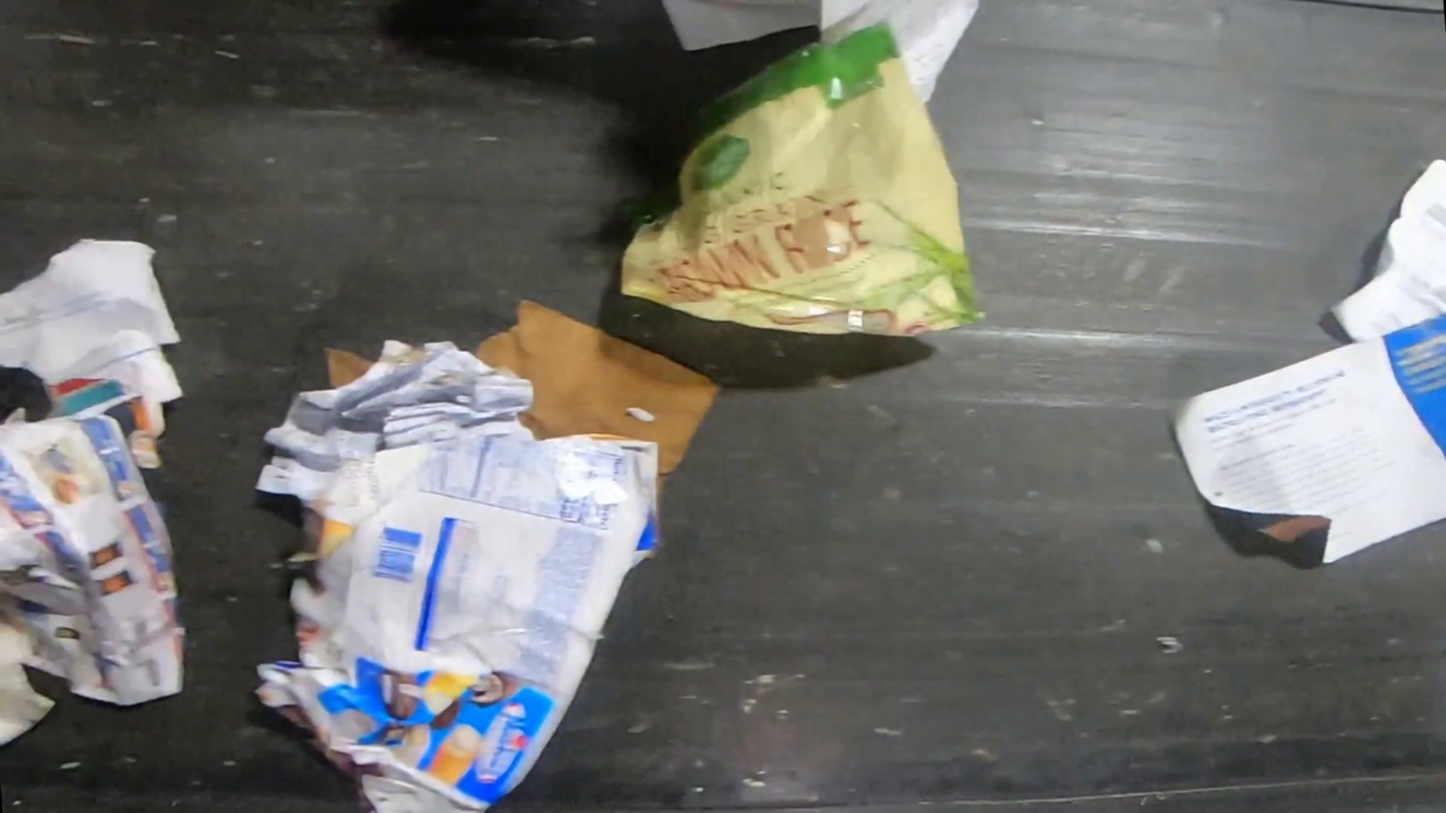cardboard: (257, 431, 662, 813), (478, 302, 726, 476)
plastic: (622, 22, 998, 342)
